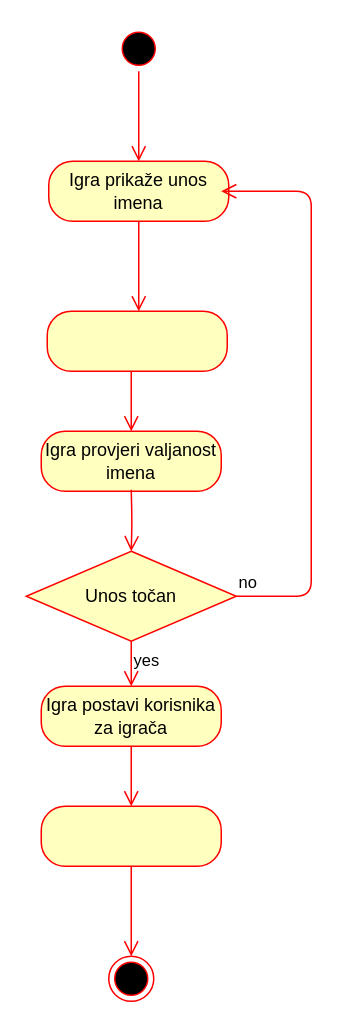
This 353x1028 diagram has some shape labels left out. The shapes that lost their labels are listed below. From the top down, each one's centre as x and y in pixels, then its label:
At (x=136, y=340): "Igrač unese ime".
At (x=130, y=835): "Igra postavi broj pitanja na 0".
